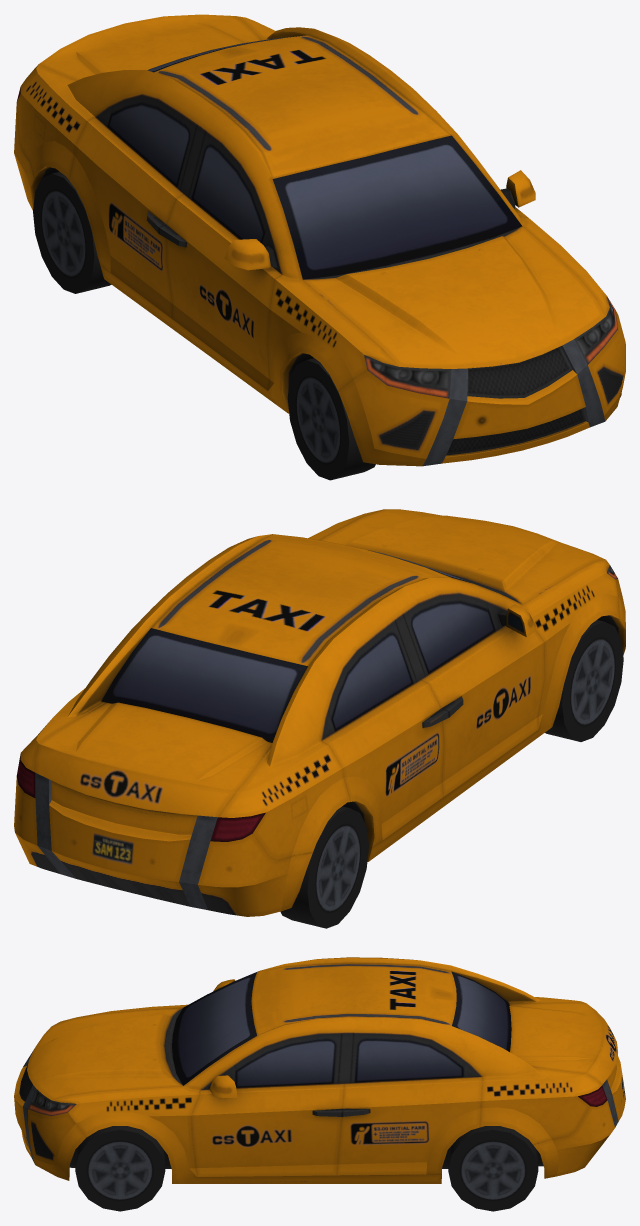
The picture shows the model from 3 angles, top to bottom: view 1: azimuth 30°, elevation 25°; view 2: azimuth 150°, elevation 25°; view 3: azimuth 270°, elevation 25°; orthographic projection. The views are drawn at different scales.
Parts seen in each view (by area): view 1: e7_civilian_0__0; view 2: e7_civilian_0__0; view 3: e7_civilian_0__0.
Boxes of the visible parts, left/top/right/bottom form: e7_civilian_0__0: left=14, top=14, right=625, bottom=480; e7_civilian_0__0: left=14, top=509, right=625, bottom=928; e7_civilian_0__0: left=14, top=957, right=625, bottom=1211.
Bounding box in the file's own units: 227 × 172 × 544.
